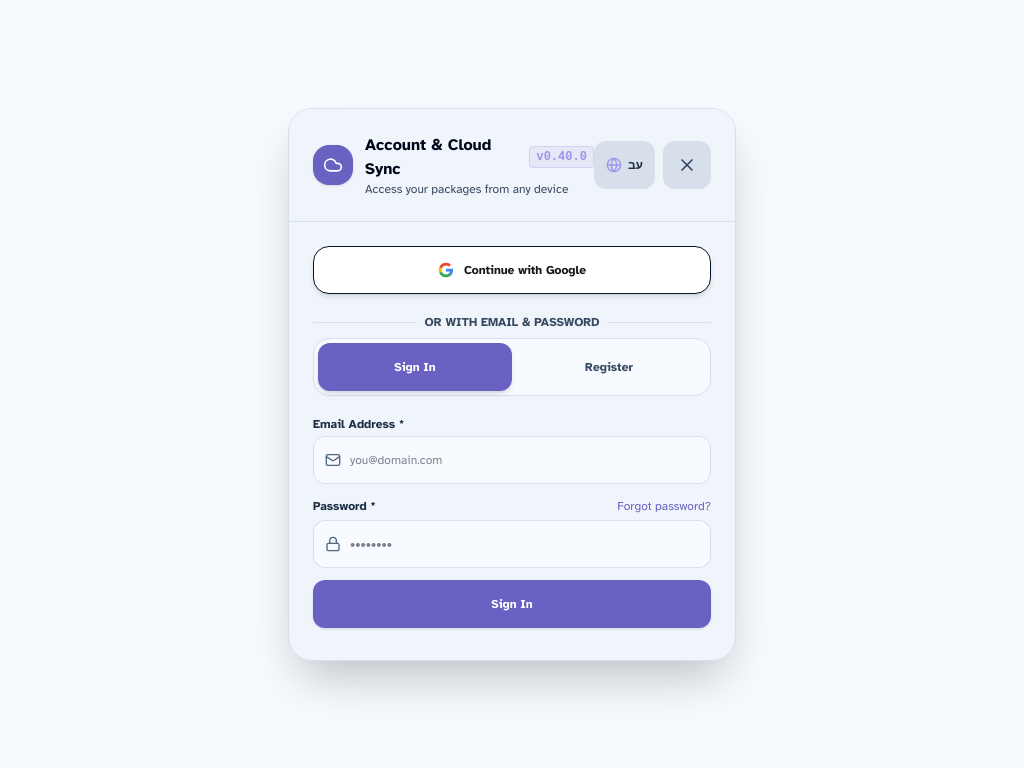
Test: AuthModal (rendered) › sends a password reset link from the forgot-password tab
Click the button "Forgot password?" at (664, 506), box [609,482,719,530]
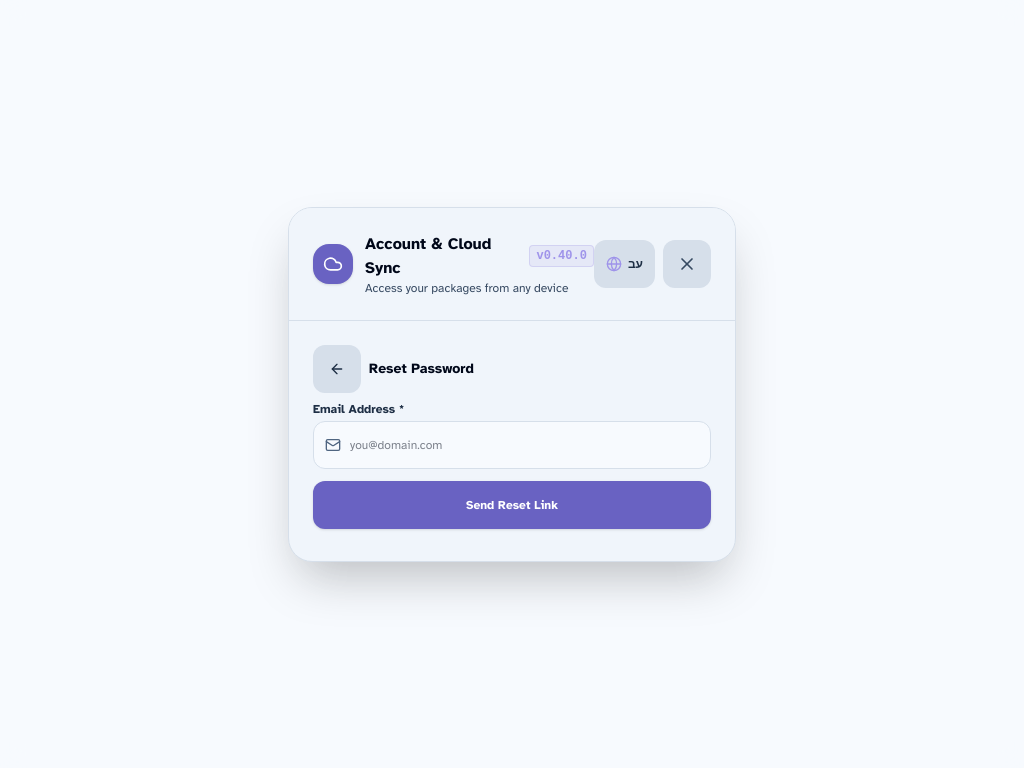
Type "alex@example.com" into the field with placeholder "you@domain.com" at (512, 444), box [313,420,711,468]
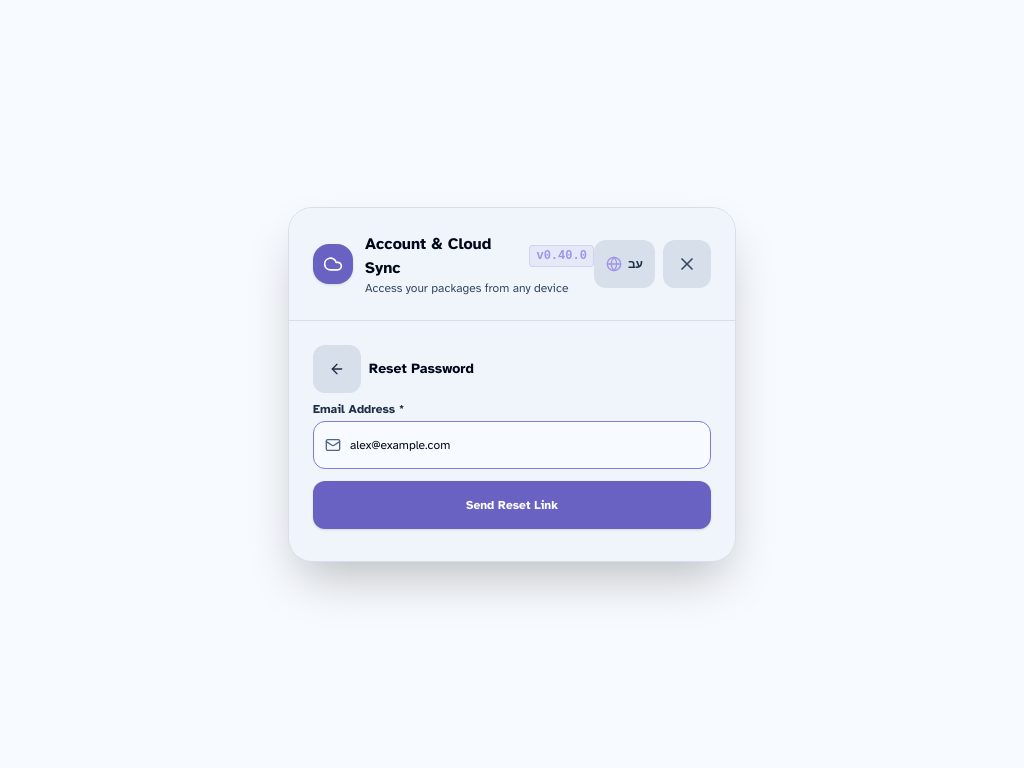
Click the button "Send Reset Link" at (512, 504), box [313,480,711,528]
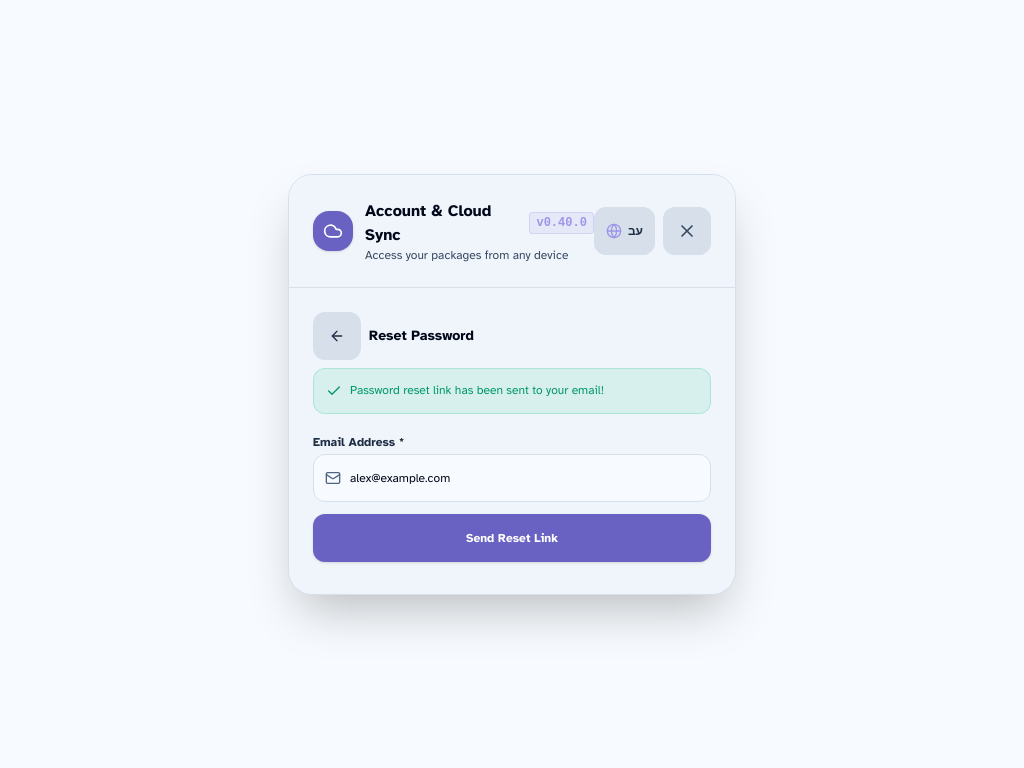
expect the text "Password reset link has been sent to your email!" is shown: met, box [350,381,604,400]
